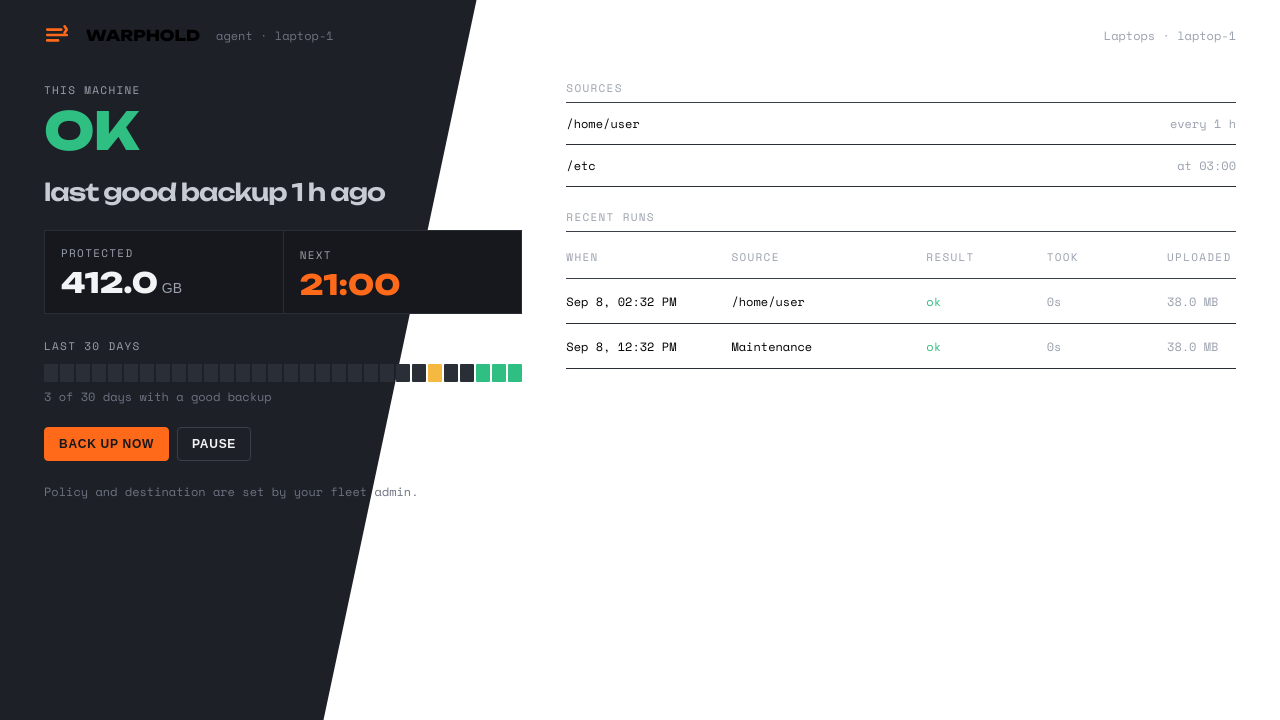
Test: AgentHome › starts a backup and re-reads the engine
Click the button "Back up now": [106, 444] box [44,427,169,461]
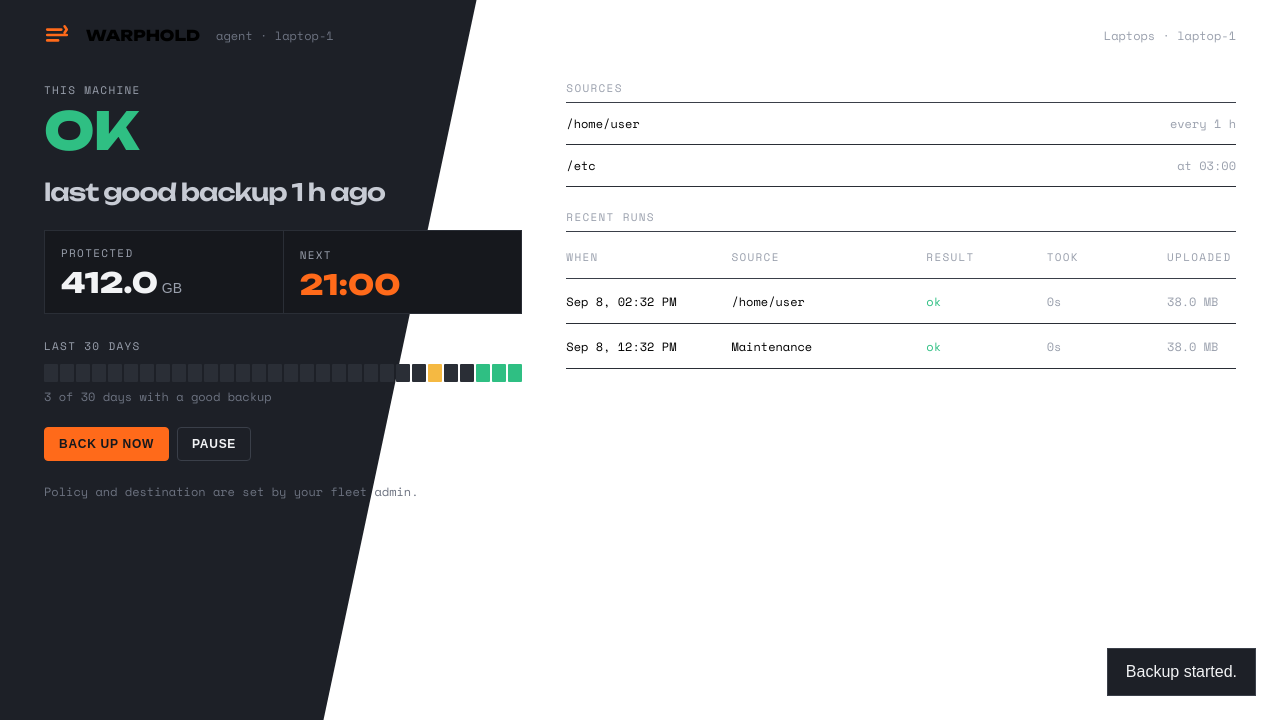
expect the message reads "Backup started.": met, box [1126,663,1237,680]
